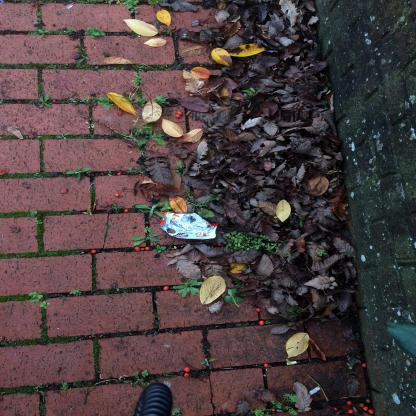plastik: (160, 212, 221, 241)
